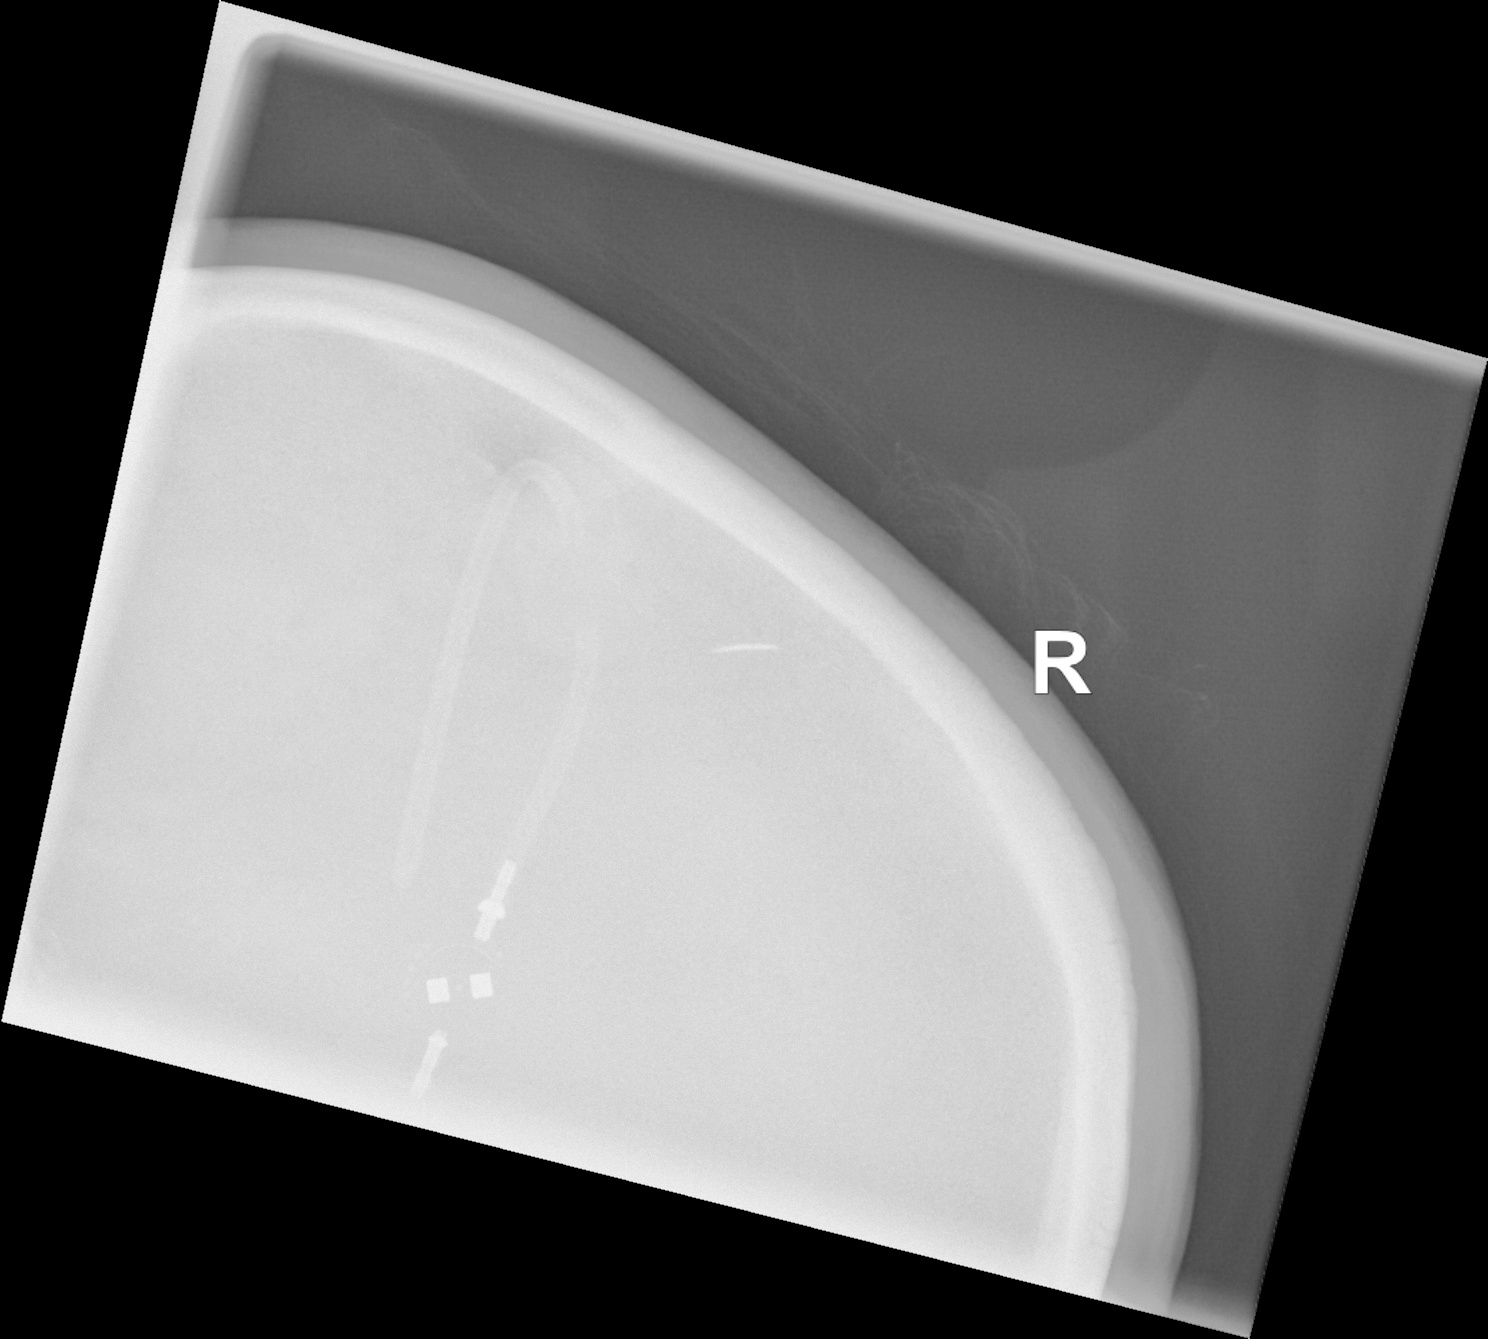Sophysa Polaris: (389, 922, 531, 1059)
